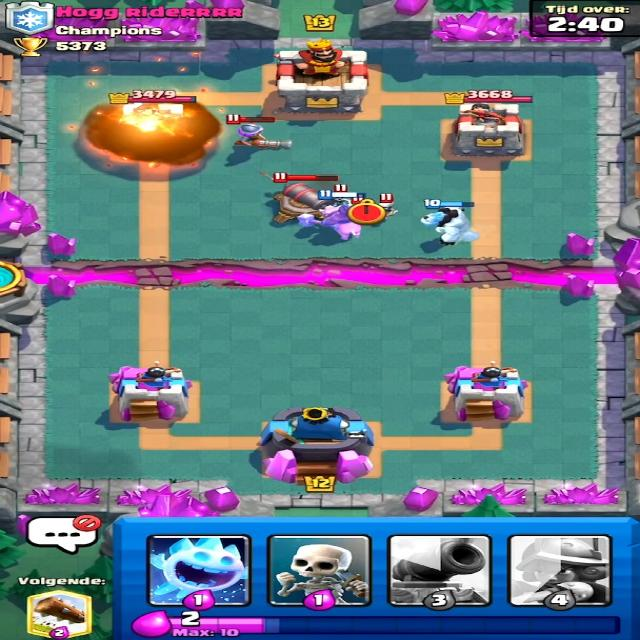Cannon_Card: (391, 534, 488, 607)
Enemy_Cannon_Troop: (261, 182, 340, 223)
Enemy_Musketeer_Troop: (226, 118, 297, 152)
Enemy_Skeleton_Troop: (378, 202, 393, 215)
Hog_Rider_Troop: (292, 202, 378, 243)
Ice_Golem_Troop: (412, 205, 478, 249)
Ice_Spirit_Card: (145, 533, 256, 607)
Musketeer_Card: (507, 536, 613, 605)
Skeleton_Card: (266, 530, 374, 608)
